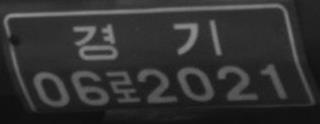0: (31, 69, 71, 108), (179, 64, 216, 103)
1: (259, 62, 290, 101)
2: (217, 64, 259, 102), (142, 66, 178, 103)
6: (71, 68, 111, 107)
경기_D: (70, 17, 222, 60)
로: (111, 69, 141, 104)
